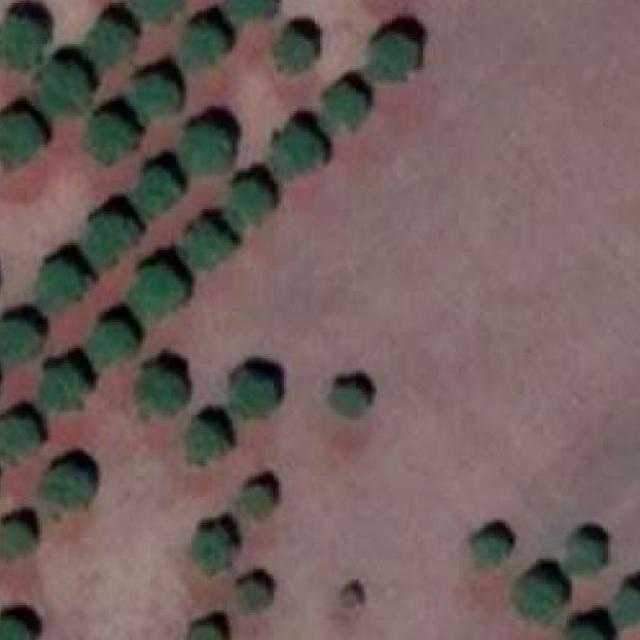Tree: (130, 258, 189, 325), (78, 209, 135, 263), (83, 113, 140, 163), (181, 125, 233, 179), (135, 366, 186, 418), (47, 459, 97, 510), (37, 258, 86, 310), (0, 111, 44, 168), (274, 127, 325, 176), (37, 63, 86, 114), (515, 572, 567, 618), (186, 413, 230, 467), (186, 219, 236, 266), (0, 409, 46, 460), (0, 16, 42, 71), (0, 312, 42, 366), (85, 317, 132, 363), (130, 73, 179, 117), (232, 368, 276, 415), (39, 362, 83, 406), (88, 22, 132, 62), (187, 21, 226, 66), (328, 86, 367, 130), (197, 523, 236, 567), (374, 31, 409, 80), (230, 181, 268, 225), (140, 168, 176, 212), (332, 377, 368, 418), (278, 32, 312, 73), (572, 533, 603, 574), (132, 0, 181, 24), (0, 520, 29, 558), (242, 484, 276, 516), (615, 582, 640, 624), (564, 620, 613, 640), (477, 536, 508, 567), (227, 0, 270, 22), (184, 620, 228, 640), (238, 579, 268, 608), (0, 615, 32, 640), (340, 582, 363, 606)
